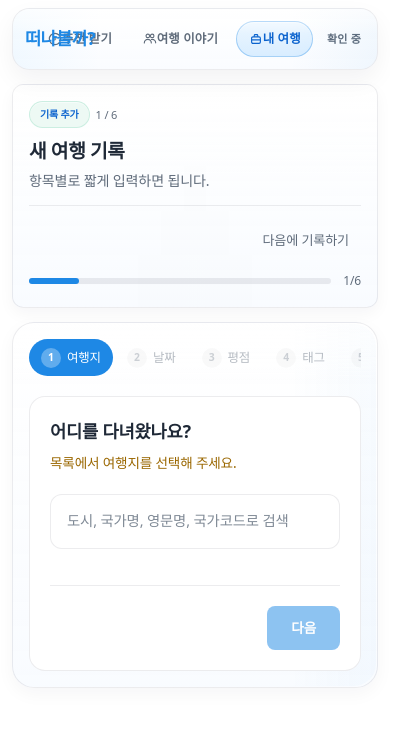
Test: AccountHistoryCreateExperience destination autocomplete › uses the provided destination list and deduplicates duplicate city ids
The image size is (402, 729).
Type "vanc" into the field with test id "new-history-destination-search".
click(195, 522); type("vanc")  # box [50,495,340,549]
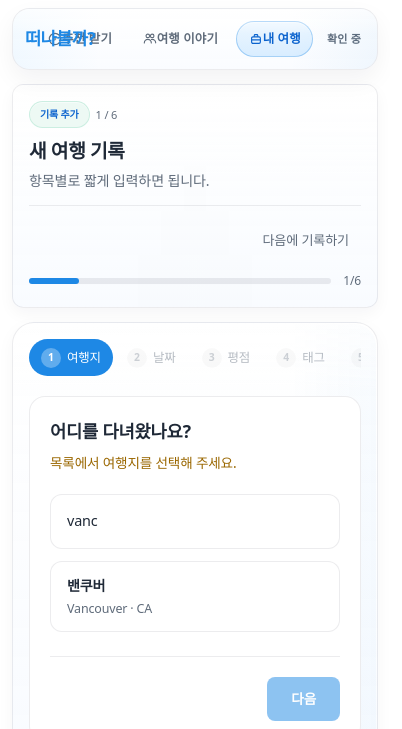
Result: the text "밴쿠버" is shown once at [67,576,105,595]
Replace the text in the field with test id "new-history-destination-search" with "lis" at x=195, y=522, box [50,495,340,549]
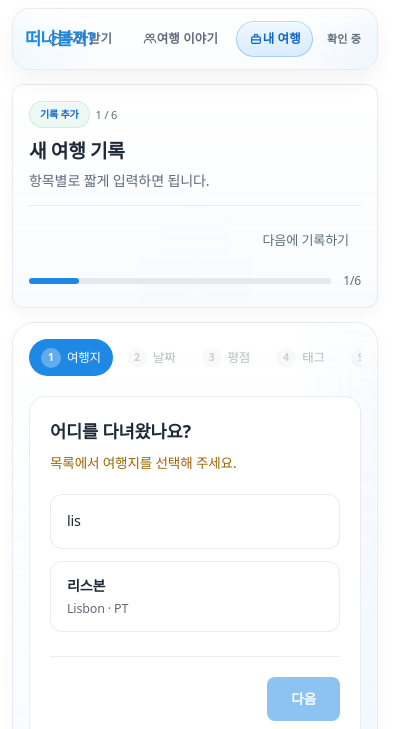
Click the button with test id "new-history-destination-result-0".
click(86, 586)  # box [50,561,340,632]
Wait 130 ms
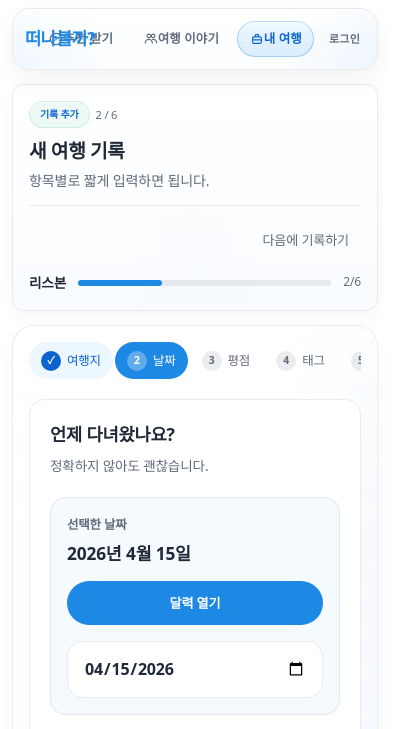
Result: the heading with test id "new-history-step" reads "언제 다녀왔나요?" at [50,422,175,446]
